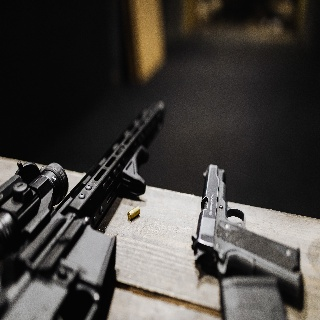pistol: (191, 163, 307, 311)
rifle: (1, 98, 168, 320)
